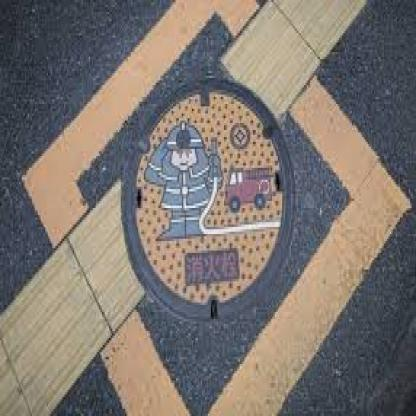manholes: (108, 52, 298, 352)
